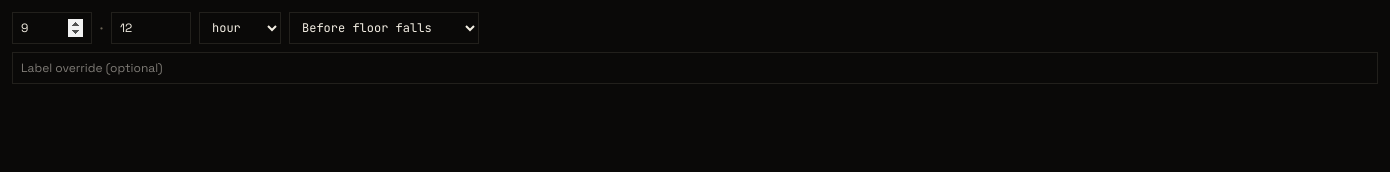
Scenario: EventTimeFields › seeds the basis/offset/unit from initial and disables offset when unscheduled
The image size is (1390, 172).
Expected: the number field named "Time offset" holds "12", left=111, top=12, right=191, bottom=44
Expected: the dropdown named "Time unit" shows "hour", left=199, top=12, right=281, bottom=44
Note: Switching to UNSCHEDULED disables the offset + unit controls.
Select "Unscheduled" in the dropdown named "Time basis": (384, 28) left=289, top=12, right=479, bottom=44
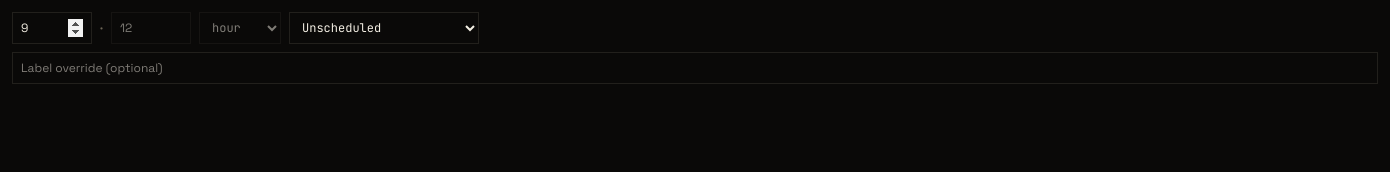
Expected: the number field named "Time offset" is disabled, left=111, top=12, right=191, bottom=44
Expected: the dropdown named "Time unit" is disabled, left=199, top=12, right=281, bottom=44
